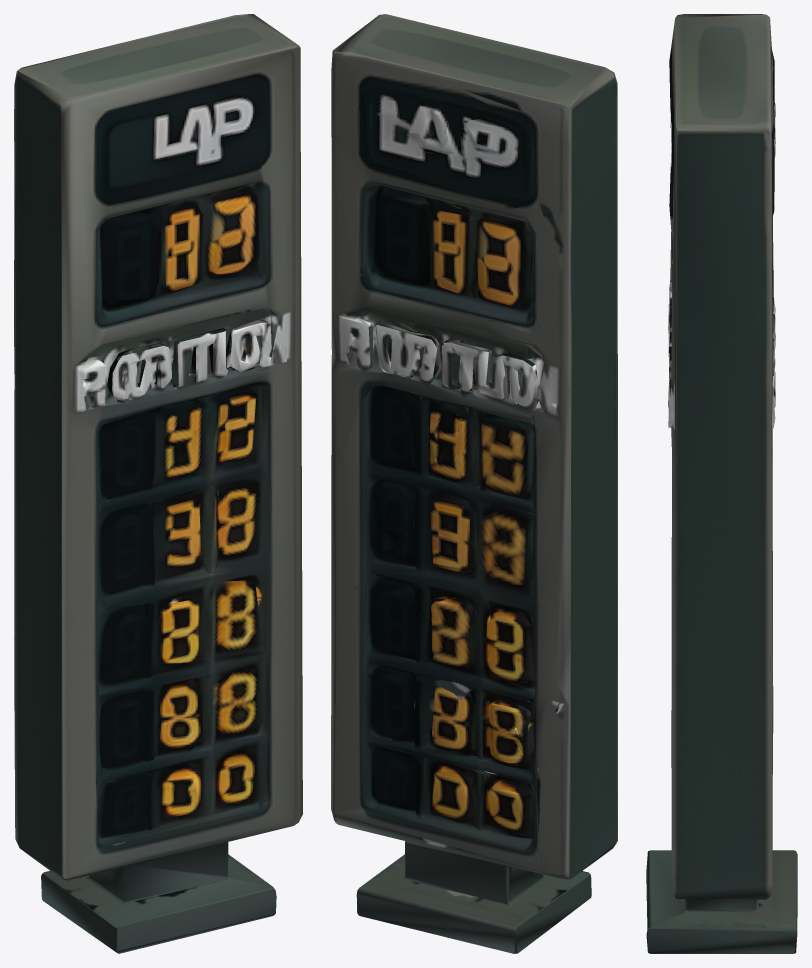
File: leaderboard-sign.glb
3 views of the same model, side by side, from view 1: azimuth 30°, elevation 25°; view 2: azimuth 150°, elevation 25°; view 3: azimuth 270°, elevation 25° (orthographic).
Parts seen in each view (by area): view 1: demo_textured.obj; view 2: demo_textured.obj; view 3: demo_textured.obj.
Part boxes in pixels (left/top/right/bottom): demo_textured.obj: left=14, top=14, right=302, bottom=953; demo_textured.obj: left=331, top=14, right=617, bottom=953; demo_textured.obj: left=646, top=14, right=797, bottom=953.
Bounding box in the file's own units: 0.5874 × 1.98 × 0.3221.
1 material, 1 textured.
